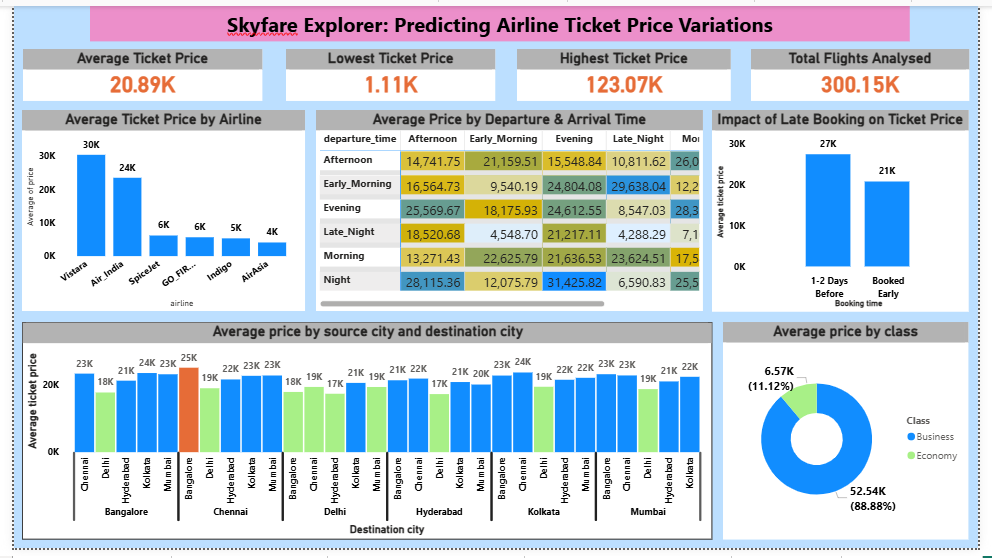

The page's visual inventory and layout, read from the dashboard file:
{"tool":"powerbi","page":{"name":"Airfare Dashboard","canvas":[1280,720],"ordinal":5},"visuals":[{"type":"textbox","box":[101,0,1088.8,46.8],"z":0},{"type":"donutChart","title":"Average price by class","fields":{"Category":["Clean_Dataset.class"],"Y":["Avg(Clean_Dataset.price)"]},"box":[942.4,419.9,325.9,288.9],"z":1000},{"type":"columnChart","title":"Average price by source city and destination city","fields":{"Category":["Clean_Dataset.source_city","Clean_Dataset.destination_city"],"Y":["Avg(Clean_Dataset.price)"]},"box":[10.1,419.9,917.2,288.9],"z":2000},{"type":"pivotTable","title":"Average Price by Departure & Arrival Time","fields":{"Rows":["Clean_Dataset.departure_time"],"Columns":["Clean_Dataset.arrival_time"],"Values":["Avg(Clean_Dataset.price)"]},"box":[401.5,137.7,514,267.1],"z":3000},{"type":"clusteredColumnChart","title":"Impact of Late Booking on Ticket Price","fields":{"Category":["Clean_Dataset.Last_Minute"],"Y":["Avg(Clean_Dataset.price)"]},"box":[927.8,137.6,341,267.8],"z":4000},{"type":"clusteredColumnChart","title":"Average Ticket Price by Airline","fields":{"Category":["Clean_Dataset.airline"],"Y":["Avg(Clean_Dataset.price)"]},"box":[10.1,137.7,376.3,267.1],"z":5000},{"type":"card","title":"Average Ticket Price","fields":{"Values":["Avg(Clean_Dataset.price)"]},"box":[11.7,57.1,317.6,68.8],"z":5001},{"type":"card","title":"Lowest Ticket Price","fields":{"Values":["Min(Clean_Dataset.price)"]},"box":[361.5,57.1,278,68.8],"z":5002},{"type":"card","title":"Highest Ticket Price","fields":{"Values":["Max(Clean_Dataset.price)"]},"box":[668.8,57.1,283.9,68.8],"z":5003},{"type":"card","title":"Total Flights Analysed","fields":{"Values":["CountNonNull(Clean_Dataset.airline)"]},"box":[979,57.1,289.8,68.8],"z":5004}]}

Visuals, with their boxes in screenshot pixels (x1, y1, x2, y2), scaled from the page's 1280x720 canvas onto the 992x558 screenshot:
textbox: BBox(78, 0, 922, 36)
"Average price by class" donutChart: BBox(730, 325, 983, 549)
"Average price by source city and destination city" columnChart: BBox(8, 325, 719, 549)
"Average Price by Departure & Arrival Time" pivotTable: BBox(311, 107, 710, 314)
"Impact of Late Booking on Ticket Price" clusteredColumnChart: BBox(719, 107, 983, 314)
"Average Ticket Price by Airline" clusteredColumnChart: BBox(8, 107, 299, 314)
"Average Ticket Price" card: BBox(9, 44, 255, 98)
"Lowest Ticket Price" card: BBox(280, 44, 496, 98)
"Highest Ticket Price" card: BBox(518, 44, 738, 98)
"Total Flights Analysed" card: BBox(759, 44, 983, 98)
